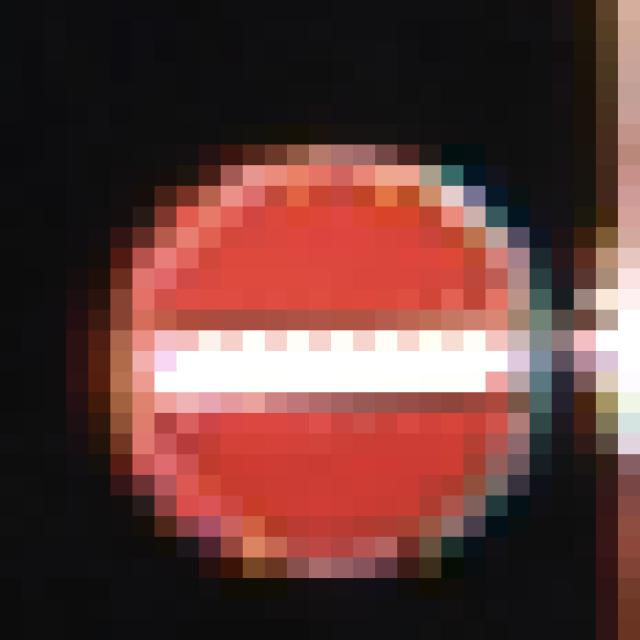No Entry: (112, 125, 509, 538)
